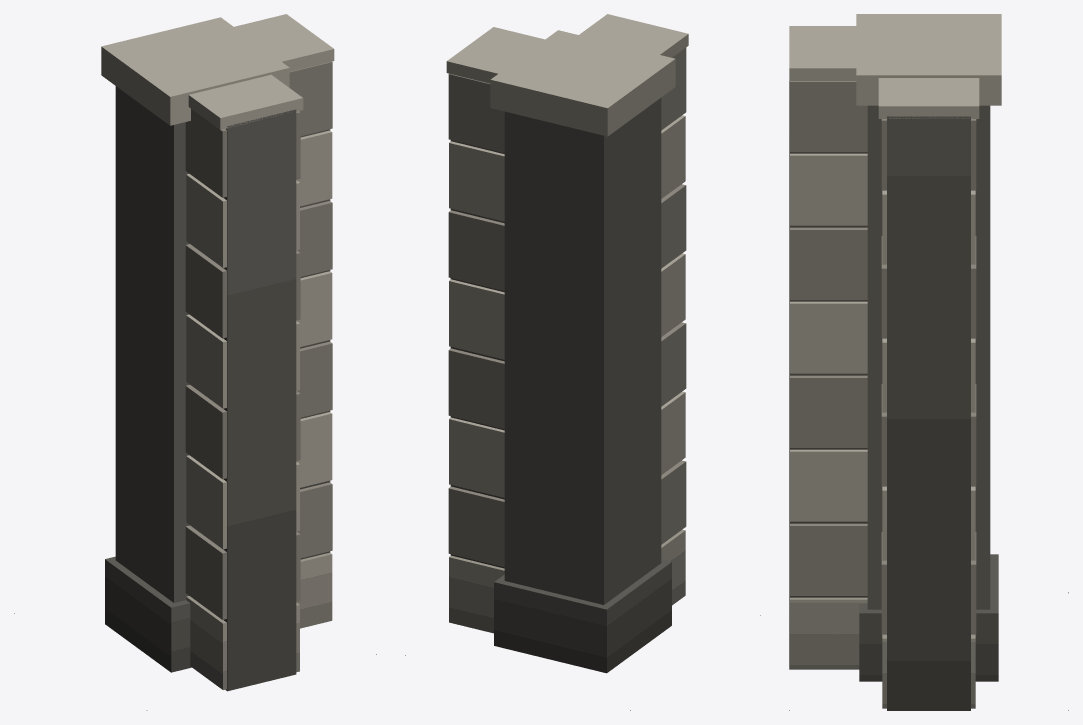
File: wall_stone_corner.glb
3 views of the same model, side by side, from view 1: azimuth 30°, elevation 25°; view 2: azimuth 150°, elevation 25°; view 3: azimuth 270°, elevation 25° (orthographic). The views are drawn at different scales.
Size of the model in its own units: 1 by 2.4 by 1.
1 material, 1 textured.
